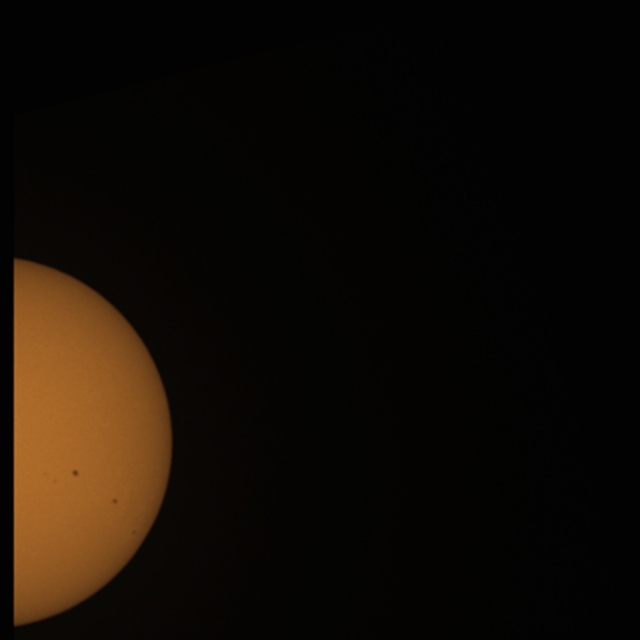sunspot: (42, 470, 59, 485), (71, 468, 80, 478), (42, 471, 50, 479), (111, 497, 119, 505), (52, 477, 59, 484), (131, 529, 137, 535)
